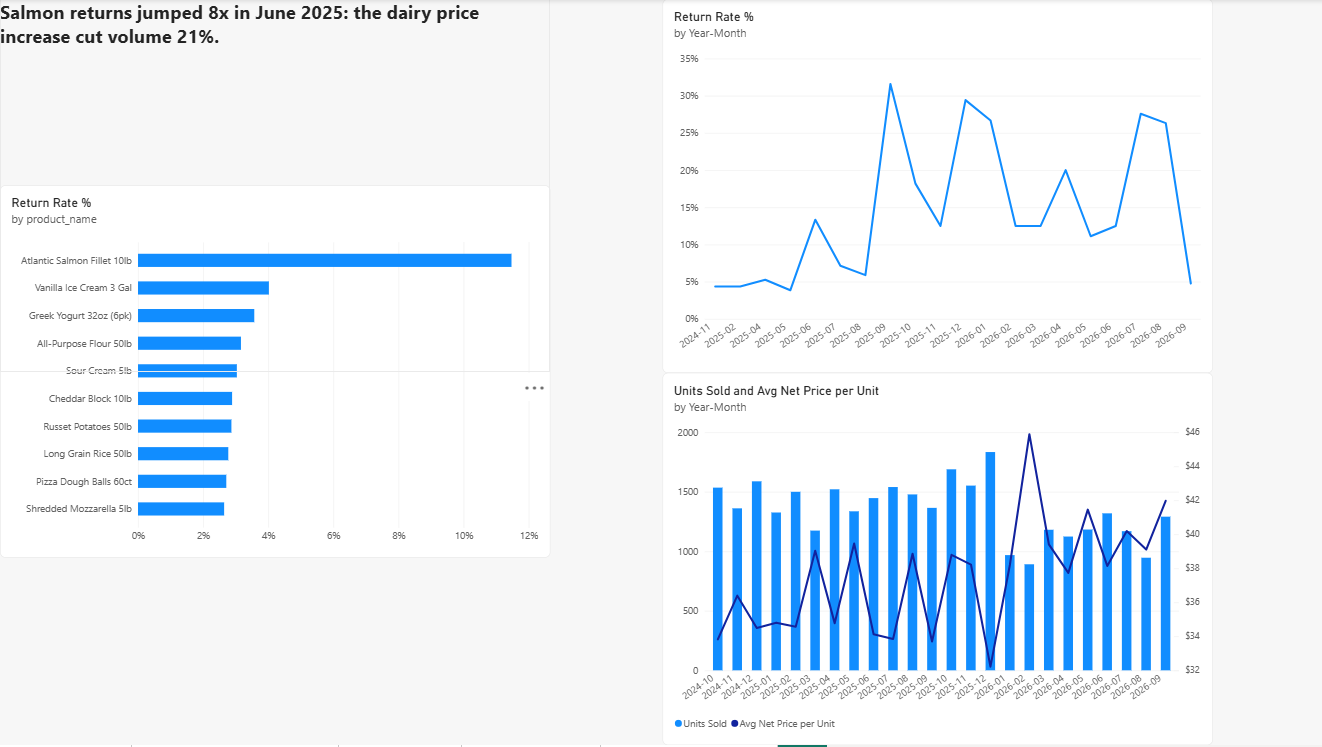

Layout of this report page (visuals, bound fields, positions):
{"tool":"powerbi","page":{"name":"Products & Pricing","canvas":[1920,1080],"ordinal":4},"visuals":[{"type":"clusteredBarChart","fields":{"Category":["dim_products.product_name"],"Y":["Key Measures.Return Rate %"]},"box":[0,269.6,796.6,539.3],"z":0},{"type":"lineChart","fields":{"Category":["dim_date.Year-Month"],"Y":["Key Measures.Return Rate %"]},"box":[959.2,0,796.6,541.3],"z":1},{"type":"lineClusteredColumnComboChart","fields":{"Category":["dim_date.Year-Month"],"Y":["Key Measures.Units Sold"],"Y2":["Key Measures.Avg Net Price per Unit"]},"box":[959.2,541.3,797,539],"z":2},{"type":"textbox","box":[0,0,797,539],"z":3}]}

Visuals, with their boxes in screenshot pixels (x1, y1, x2, y2), scaled from the page's 1920x1080 canvas onto the 1322x747 screenshot:
clusteredBarChart - dim_products.product_name x Key Measures.Return Rate %: {"x1": 0, "y1": 186, "x2": 548, "y2": 559}
lineChart - dim_date.Year-Month x Key Measures.Return Rate %: {"x1": 660, "y1": 0, "x2": 1209, "y2": 374}
lineClusteredColumnComboChart - dim_date.Year-Month x Key Measures.Units Sold: {"x1": 660, "y1": 374, "x2": 1209, "y2": 746}
textbox: {"x1": 0, "y1": 0, "x2": 549, "y2": 373}
